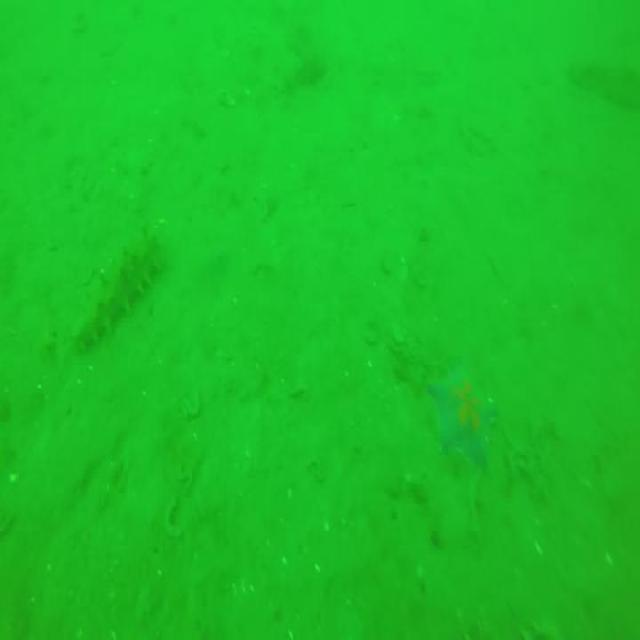holothurian: (76, 224, 168, 350), (569, 48, 640, 112)
starfish: (426, 366, 498, 484)
